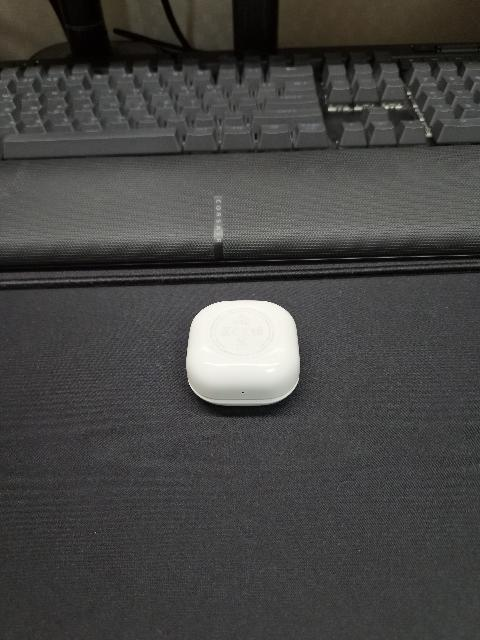earphone_case: (186, 300, 300, 407)
